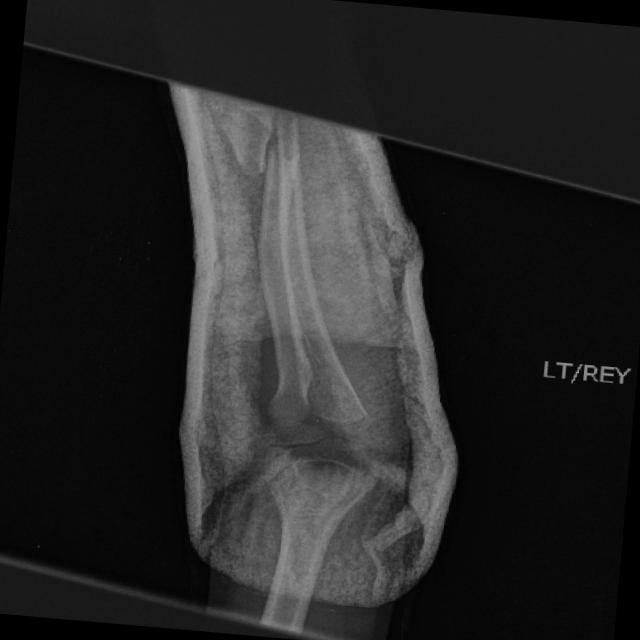forearm fracture: (235, 128, 314, 238)
